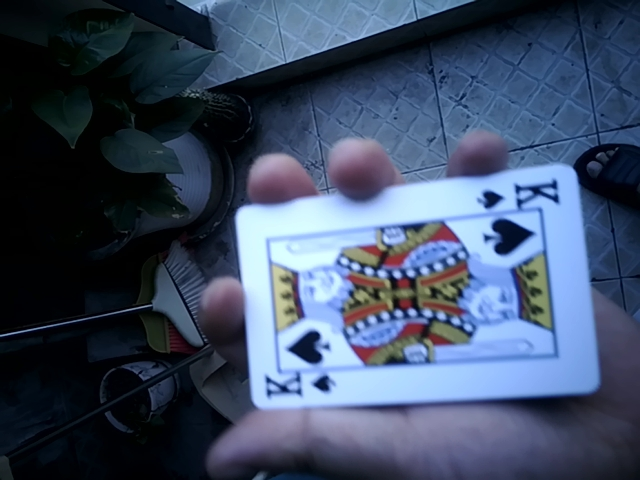ht k: (234, 167, 599, 413)
